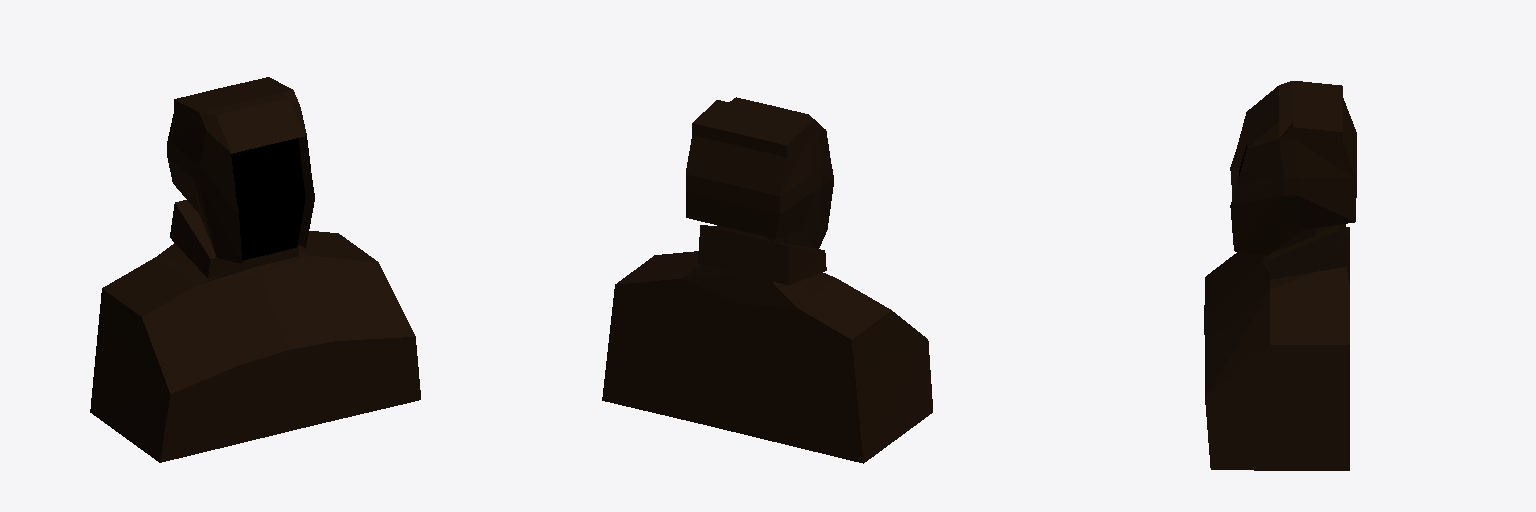
File: LocalManProject2Test3.obj
3 renders of one model, left to right at view 1: azimuth 30°, elevation 25°; view 2: azimuth 150°, elevation 25°; view 3: azimuth 270°, elevation 25°, orthographic.
Visible parts, largest first — view 1: Hood, Model; view 2: Hood; view 3: Hood.
Part boxes in pixels (bbox=[...]): Hood: bbox=[90, 77, 420, 462]; Model: bbox=[231, 138, 305, 260]; Hood: bbox=[602, 97, 932, 463]; Hood: bbox=[1204, 81, 1356, 470].
Size of the model in its own units: 1.15 by 1.27 by 0.5835.